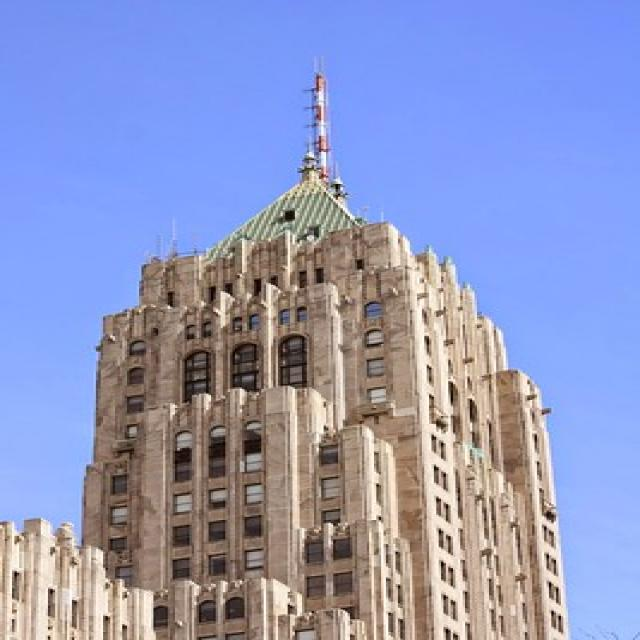Normal_building: (84, 190, 573, 640)
